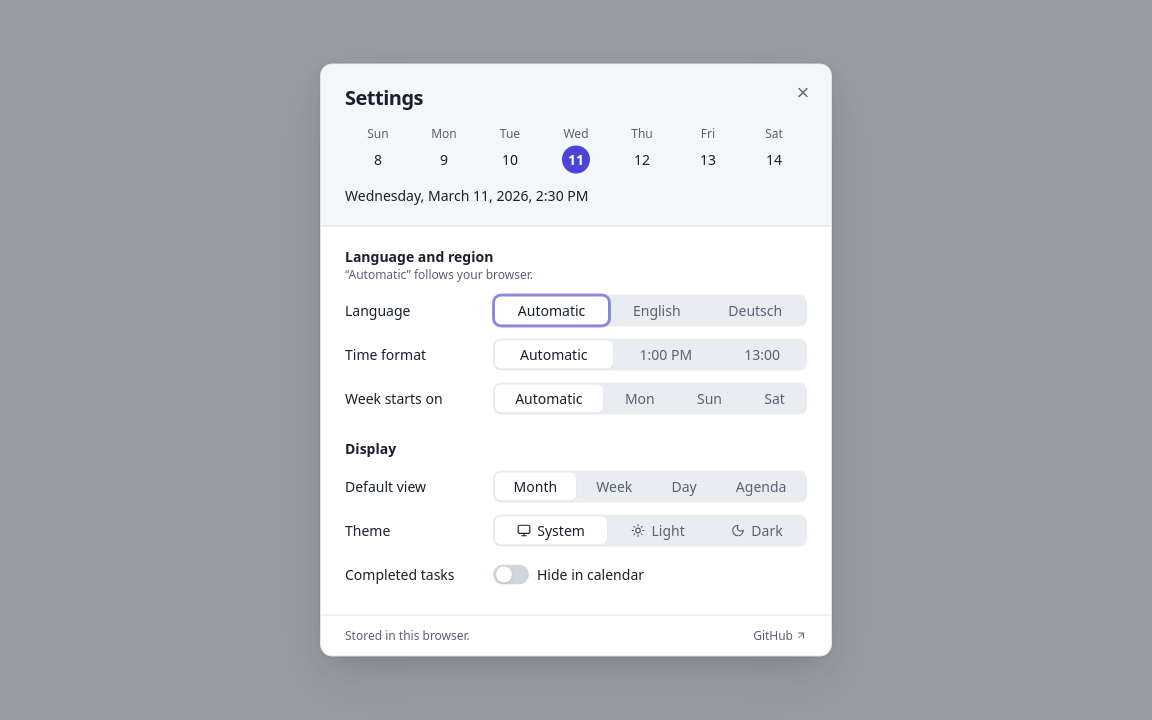
Test: SettingsDialog › previews the time in the format chosen
Click the radio button named "24-hour (13:00)". click: (762, 354)
box: [719,340,805,368]
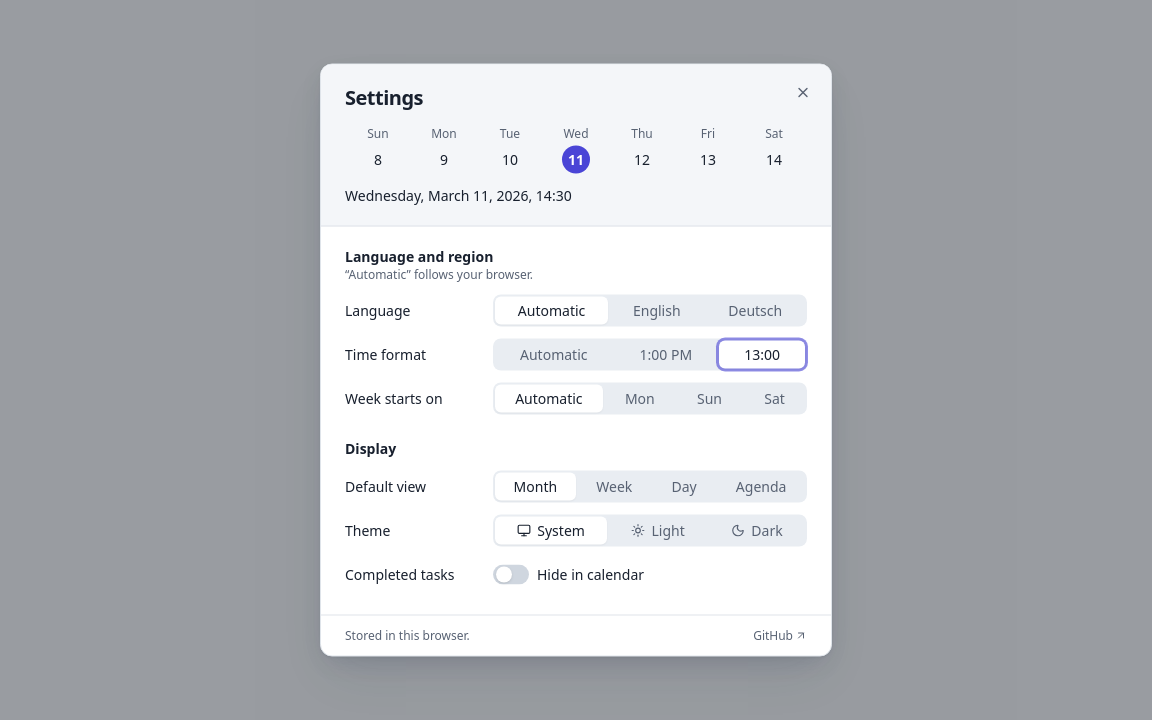
Now the element named "Preview" shows "14:30", box [536,186,572,204]
Click the radio button with aria-label "12-hour (1:00 PM)". click: (666, 354)
box: [614,340,717,368]
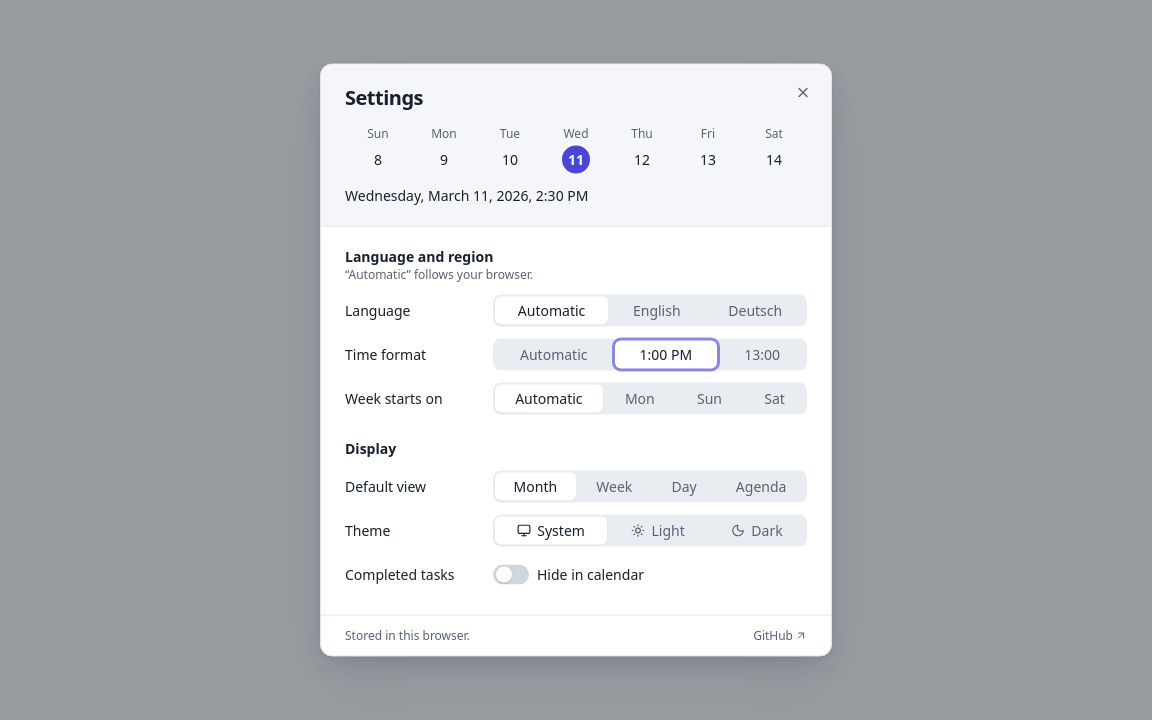
Now the element named "Preview" shows "2:30 PM", box [536,186,588,204]
